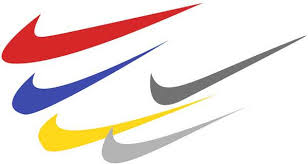nike: (10, 39, 181, 128), (2, 1, 205, 71), (141, 34, 308, 107), (32, 93, 222, 154), (96, 103, 268, 164)
